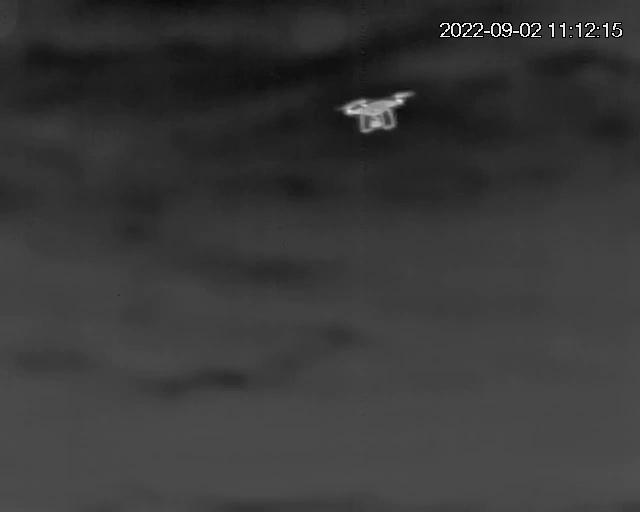DJI-Phantom: (340, 88, 416, 136)
